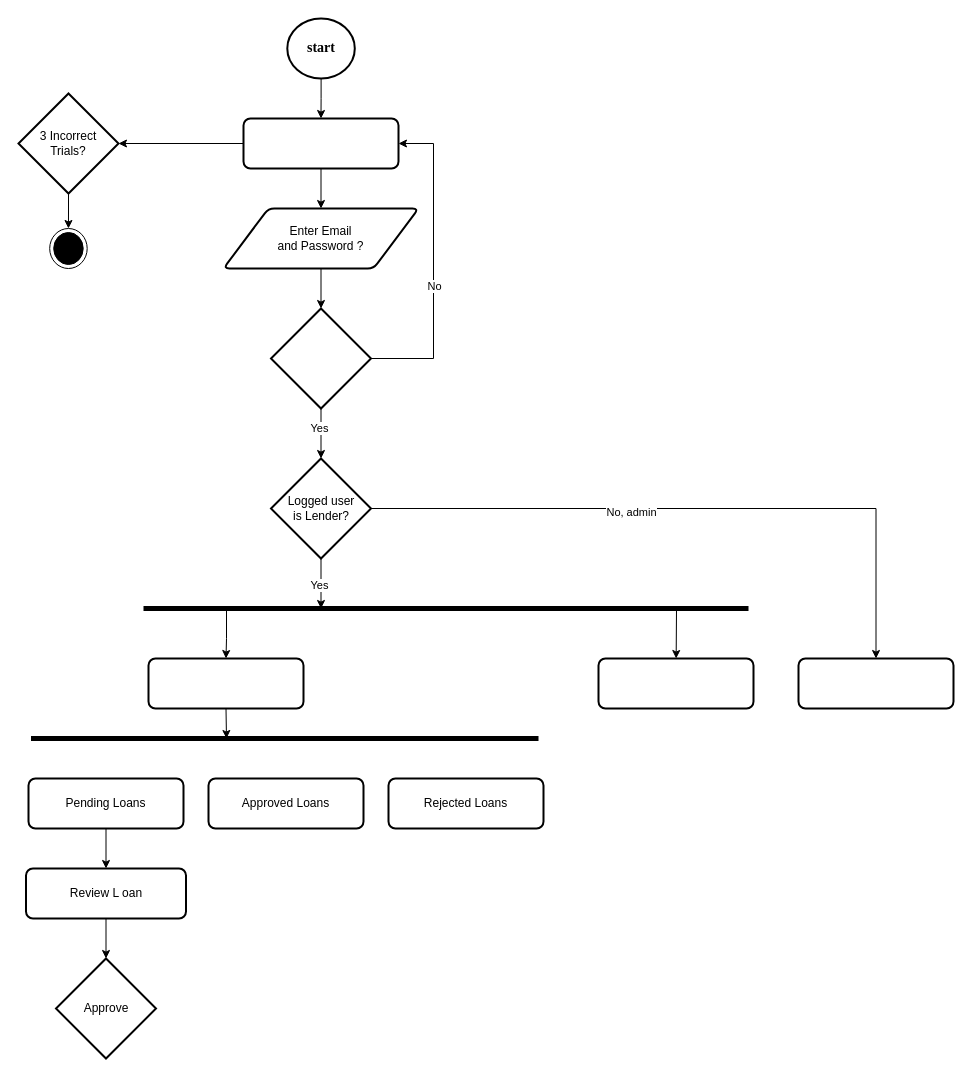
The diagram is 971 pixels wide and 1076 high, and some of its shapes have lost their labels. Each missing label, with the centre of its shape:
"correct credentials?" goes at pixel 321 358.
"Login" goes at pixel 320 143.
"Manage Borrowers" goes at pixel 675 683.
"Manage Lenders" goes at pixel 875 683.
"Manage Loans" goes at pixel 225 683.
